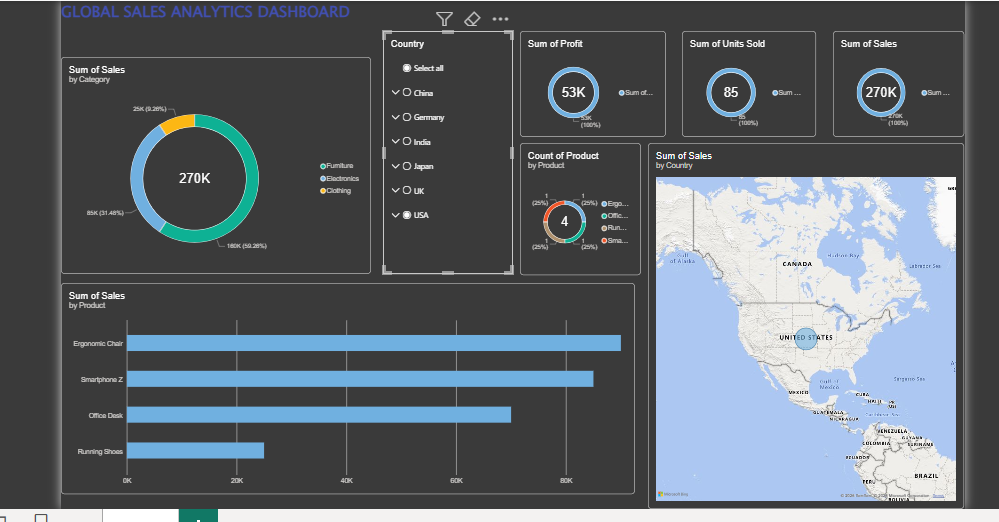

The page's visual inventory and layout, read from the dashboard file:
{"tool":"powerbi","page":{"name":"Page 1","canvas":[1920,1080],"ordinal":0},"visuals":[{"type":"textbox","box":[0,0,684.6,125.4],"z":0},{"type":"donutChart","fields":{"Y":["Sum(Table.Sales)"]},"box":[1641.3,63.8,278.5,225.4],"z":1000},{"type":"donutChart","fields":{"Y":["Sum(Table.Profit)"]},"box":[975.8,63.8,310.4,225.4],"z":2000},{"type":"donutChart","fields":{"Y":["Sum(Table.Units Sold)"]},"box":[1320.2,63.8,284.9,225.4],"z":3000},{"type":"map","fields":{"Category":["Table.Country"],"Size":["Sum(Table.Sales)"]},"box":[1248,301.9,671.8,778.1],"z":4000},{"type":"clusteredBarChart","fields":{"Category":["Table.Product"],"Y":["Sum(Table.Sales)"]},"box":[0,599.5,1220.3,448.6],"z":5000},{"type":"donutChart","fields":{"Category":["Table.Category"],"Y":["Sum(Table.Sales)"]},"box":[0,119.1,659.1,461.3],"z":6000},{"type":"listSlicer","fields":{"Values":["Table.Country","Table.Country"]},"box":[684.6,63.8,276.4,516.6],"z":7000},{"type":"donutChart","fields":{"Category":["Table.Product"],"Y":["CountNonNull(Table.Product)"]},"box":[975.8,301.9,257.2,280.6],"z":7001}]}

Visuals, with their boxes on the page's 1920x1080 design canvas (x1, y1, x2, y2). These are canvas units, not pixel positions in the 999x522 screenshot, which may show the page scaled, cropped or inside an application window:
textbox: [0, 0, 685, 125]
donutChart - Sum(Table.Sales): [1641, 64, 1920, 289]
donutChart - Sum(Table.Profit): [976, 64, 1286, 289]
donutChart - Sum(Table.Units Sold): [1320, 64, 1605, 289]
map - Table.Country x Sum(Table.Sales): [1248, 302, 1920, 1080]
clusteredBarChart - Table.Product x Sum(Table.Sales): [0, 600, 1220, 1048]
donutChart - Table.Category x Sum(Table.Sales): [0, 119, 659, 580]
listSlicer - Table.Country x Table.Country: [685, 64, 961, 580]
donutChart - Table.Product x CountNonNull(Table.Product): [976, 302, 1233, 582]
